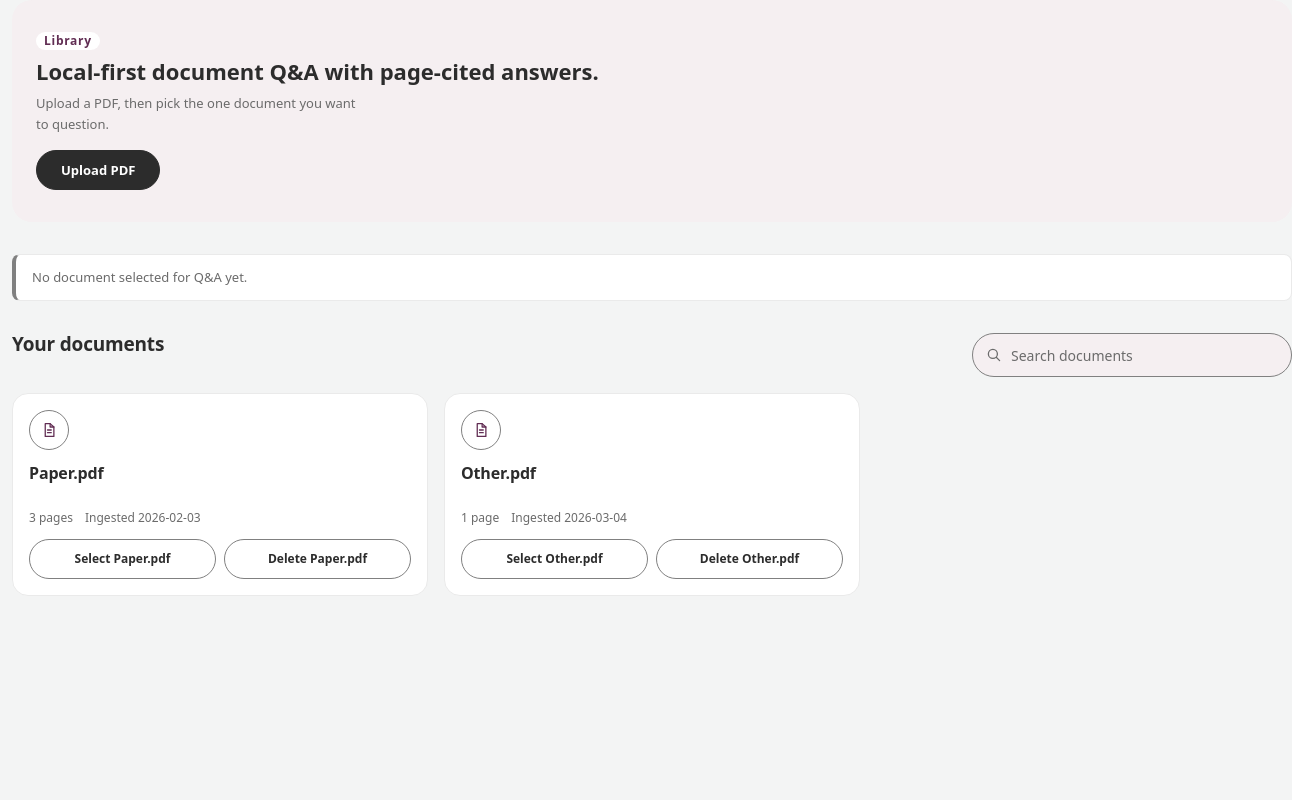
Test: Library minimal landing › filters the list by title, case-insensitively, without issuing a request
Check: the heading "Paper.pdf" is shown, box [29, 462, 104, 484]
Type "PAPER" into the search field labelled "Search documents".
click(1145, 355); type("PAPER")  # box [1011, 334, 1279, 376]
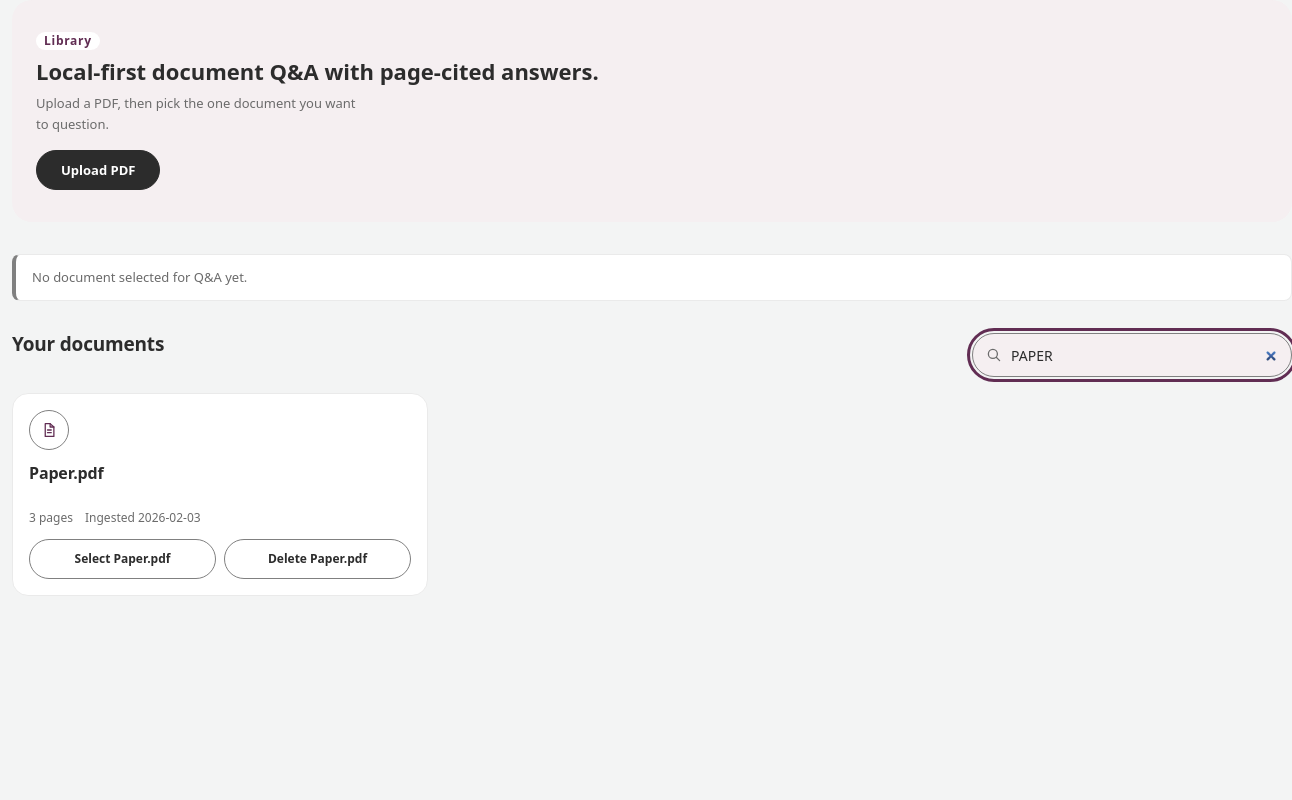
Check: the heading "Paper.pdf" is shown, box [29, 462, 104, 484]
Check: the heading "Other.pdf" is gone
Clear the search field named "Search documents" at (1145, 355), box [1011, 334, 1279, 376]
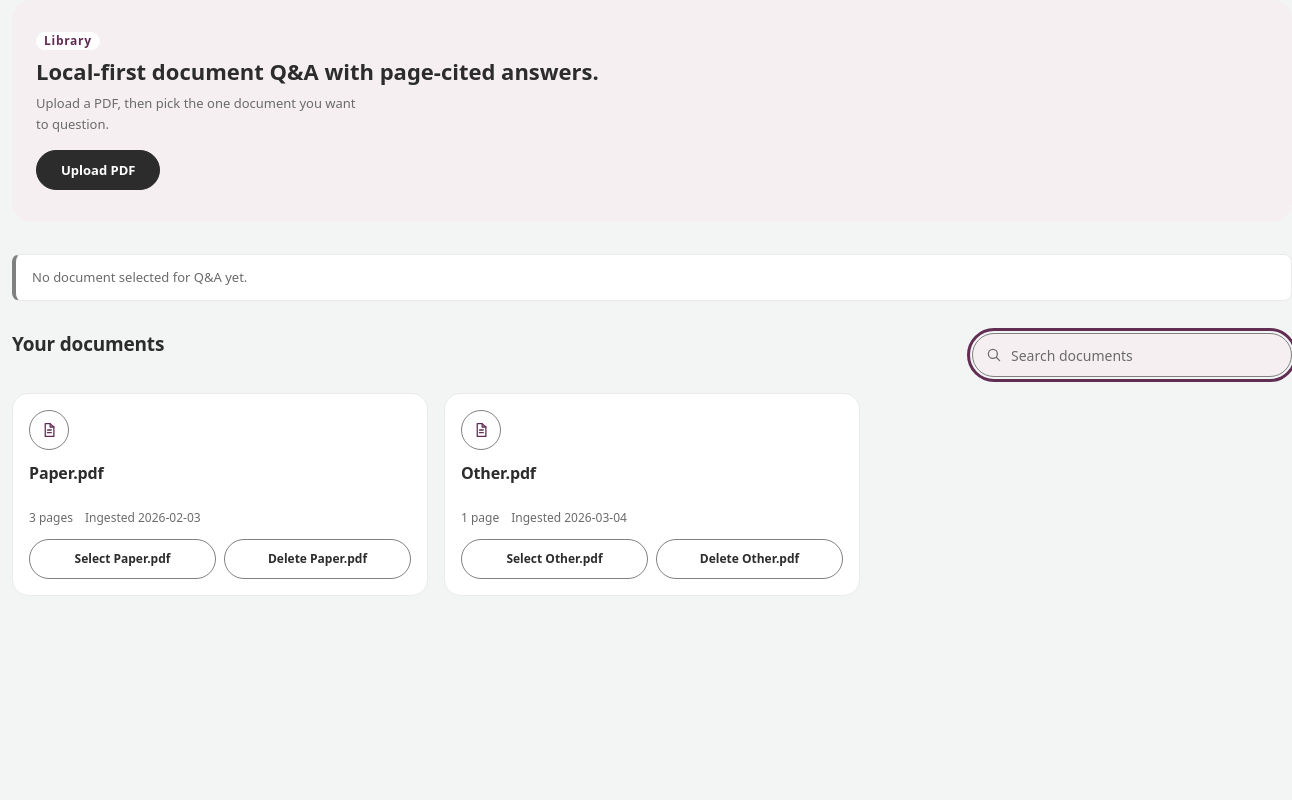
Check: the heading "Paper.pdf" is shown, box [29, 462, 104, 484]
Check: the heading "Other.pdf" is shown, box [461, 462, 536, 484]
